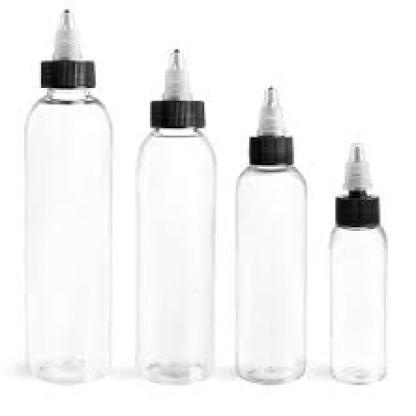trash: (25, 9, 111, 381), (137, 49, 215, 382), (237, 87, 306, 383), (330, 143, 386, 383)
